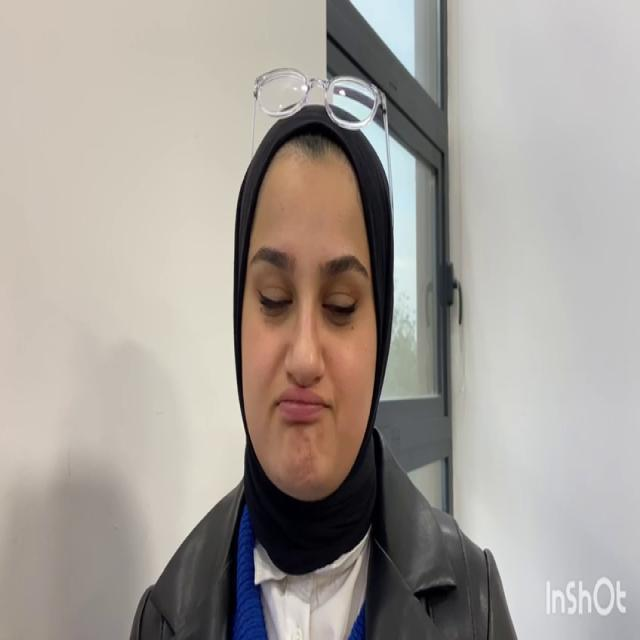Sad: (231, 146, 389, 494)
